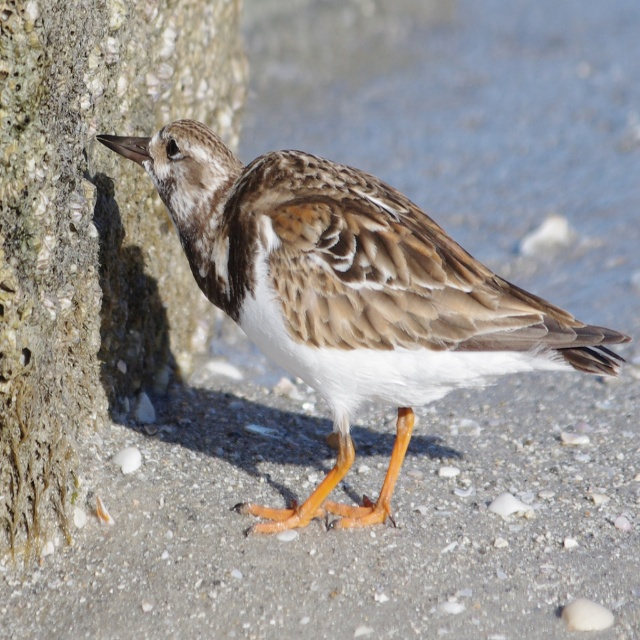Sparrow: (96, 119, 633, 538)
